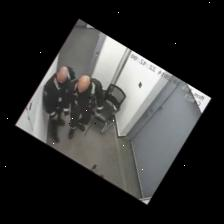person: (62, 75, 103, 138), (41, 66, 74, 142)
